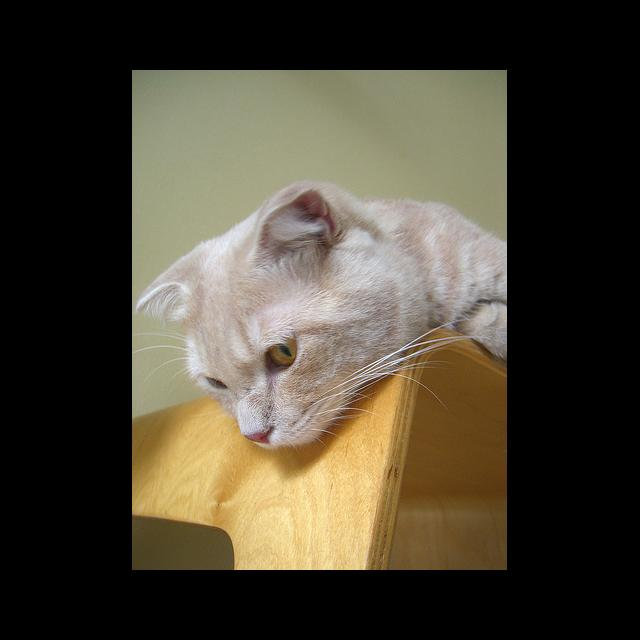animals: (137, 189, 346, 442)
